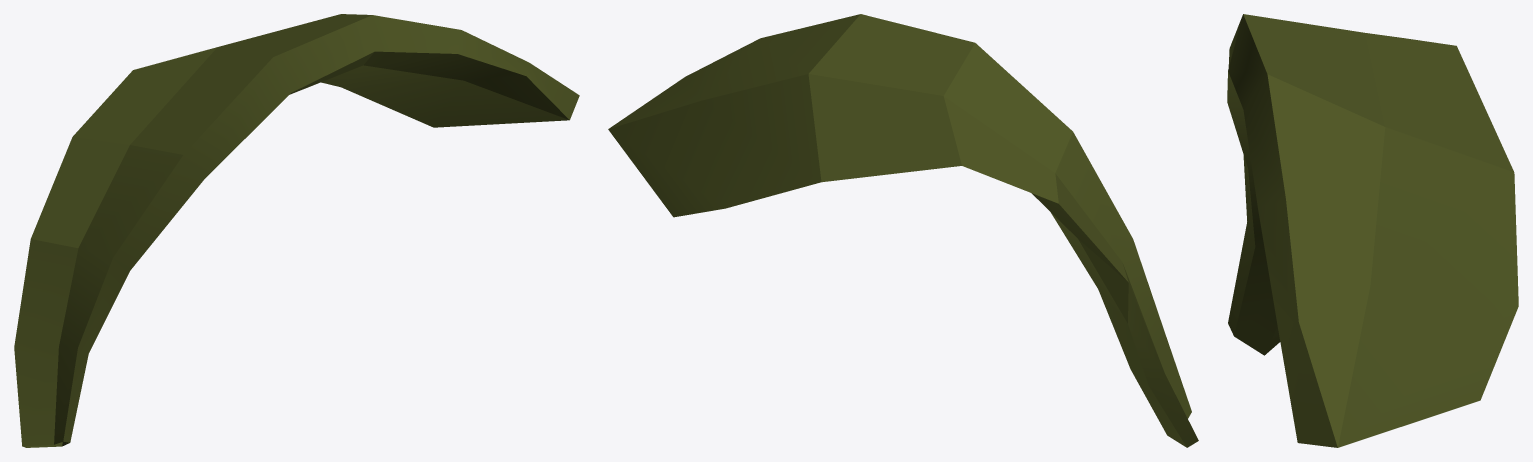
The model's file is ea_swamp_leaf_01a_pre_9_lev1.glb.
The picture shows the model from 3 angles, left to right: view 1: azimuth 30°, elevation 25°; view 2: azimuth 150°, elevation 25°; view 3: azimuth 270°, elevation 25°; orthographic projection. The views are drawn at different scales.
Visible parts, largest first — view 1: ea_swamp_leaf_01a_pre_9_lev1; view 2: ea_swamp_leaf_01a_pre_9_lev1; view 3: ea_swamp_leaf_01a_pre_9_lev1.
Boxes of the visible parts, x1,y1,x2,y2 form: ea_swamp_leaf_01a_pre_9_lev1: (14, 14, 579, 447); ea_swamp_leaf_01a_pre_9_lev1: (608, 14, 1198, 447); ea_swamp_leaf_01a_pre_9_lev1: (1227, 14, 1518, 447).
Bounding box in the file's own units: 1.55 × 0.9091 × 0.4875.
1 material, 1 textured.
